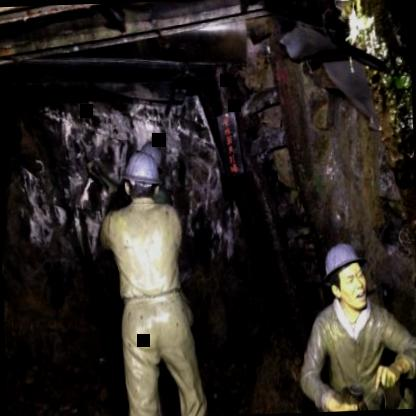helmet: (321, 235, 371, 314), (120, 148, 166, 206)
